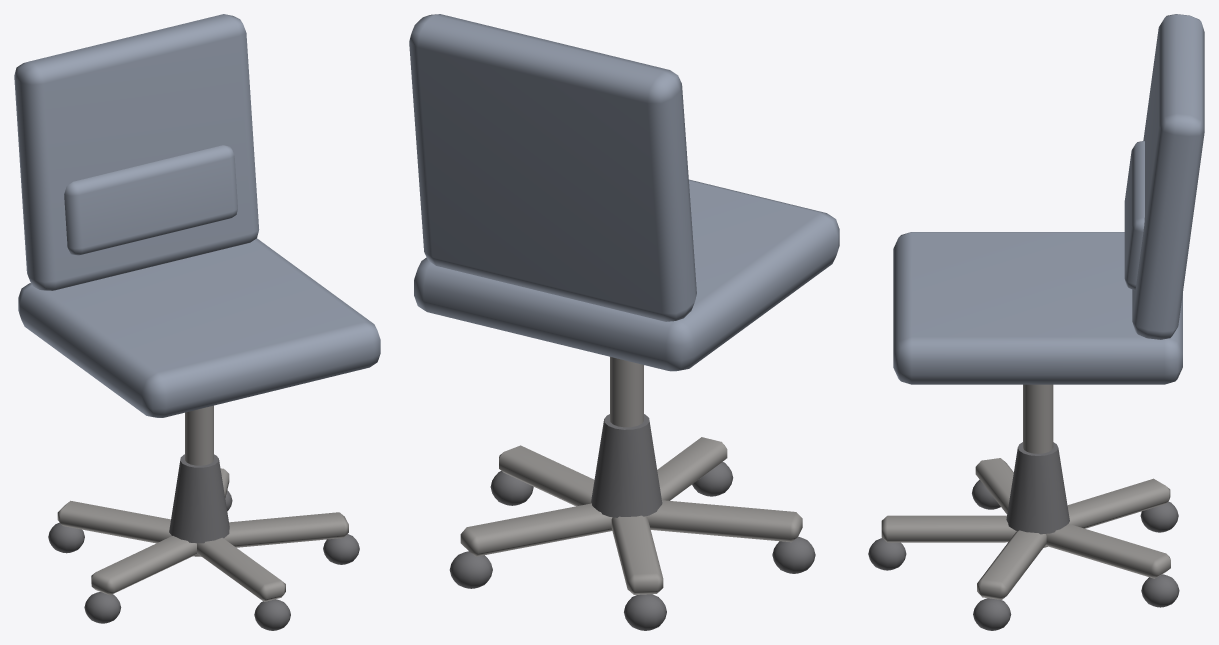
The model's file is chair.glb.
The picture shows the model from 3 angles, left to right: view 1: azimuth 30°, elevation 25°; view 2: azimuth 150°, elevation 25°; view 3: azimuth 270°, elevation 25°; orthographic projection. The views are drawn at different scales.
Parts seen in each view (by area): view 1: furn_chair; view 2: furn_chair; view 3: furn_chair.
Boxes of the visible parts, left/top/right/bottom form: furn_chair: left=14, top=14, right=380, bottom=630; furn_chair: left=409, top=14, right=839, bottom=630; furn_chair: left=868, top=14, right=1204, bottom=630.
Bounding box in the file's own units: 0.5605 × 0.9599 × 0.5805.
